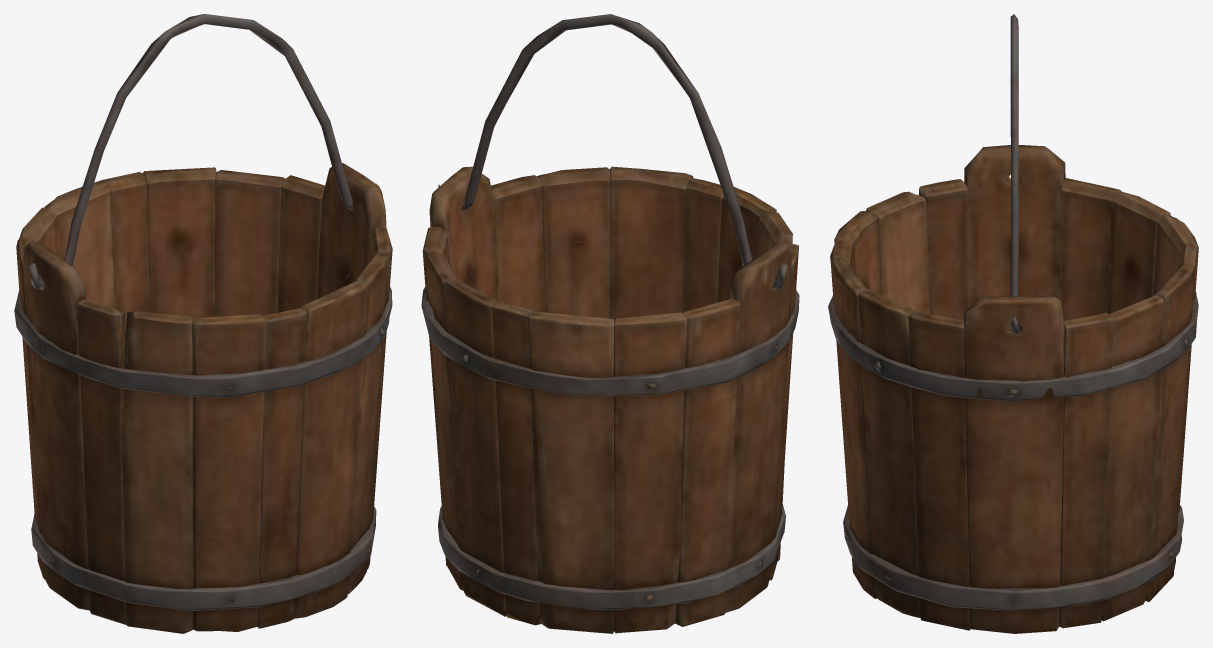
Rendered from mop_bucket_lod1.glb.
The picture shows the model from 3 angles, left to right: view 1: azimuth 30°, elevation 25°; view 2: azimuth 150°, elevation 25°; view 3: azimuth 270°, elevation 25°; orthographic projection.
Size of the model in its own units: 0.3647 by 0.5493 by 0.3418.
Materials: 1 (1 with a texture image).
